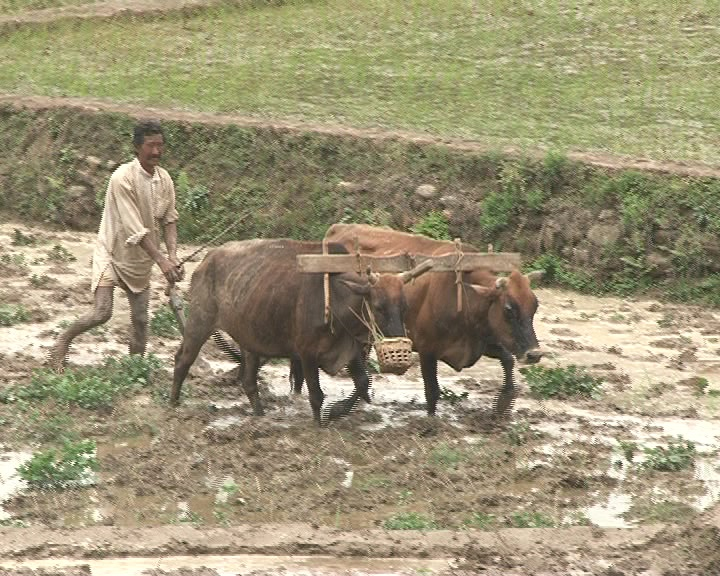human: (38, 111, 196, 392)
